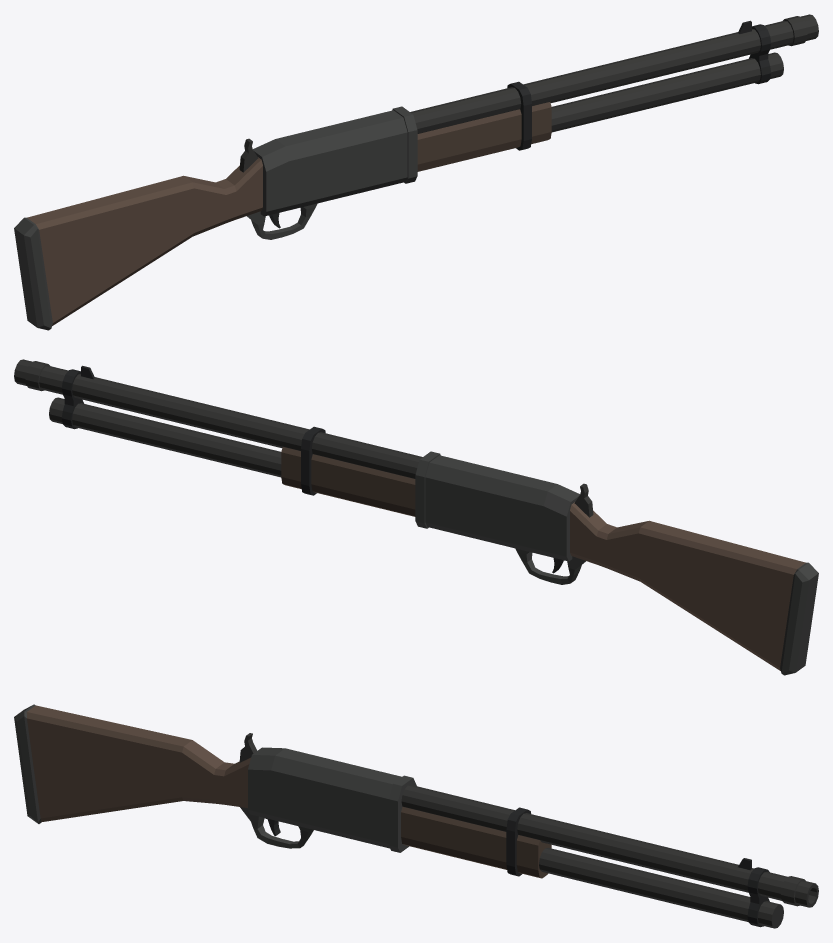
The model's file is Shotgun.glb.
The picture shows the model from 3 angles, top to bottom: view 1: azimuth 30°, elevation 25°; view 2: azimuth 150°, elevation 25°; view 3: azimuth 330°, elevation 25°; orthographic projection.
Parts seen in each view (by area): view 1: Shotgun; view 2: Shotgun; view 3: Shotgun.
Boxes of the visible parts, bbox=[...] form: Shotgun: bbox=[14, 14, 818, 330]; Shotgun: bbox=[14, 359, 818, 675]; Shotgun: bbox=[14, 704, 818, 928].
Bounding box in the file's own units: 5.78 × 0.9495 × 0.2465.
